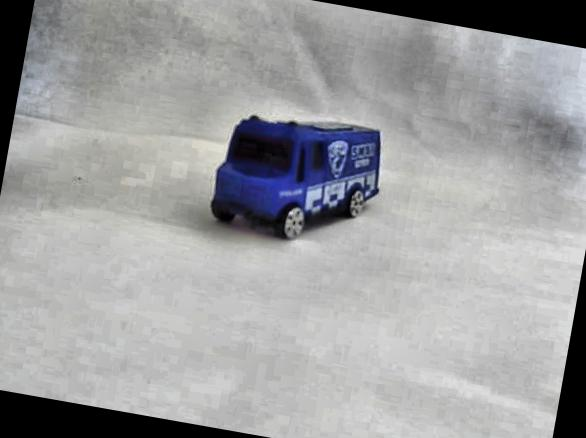police car: (207, 99, 389, 252)
